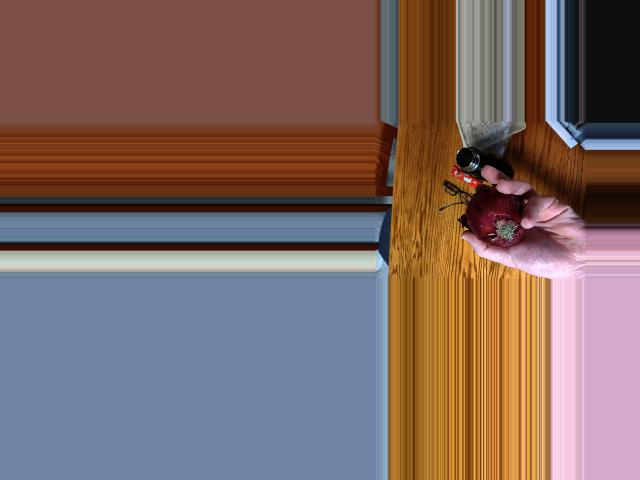onion: (470, 191, 531, 251)
